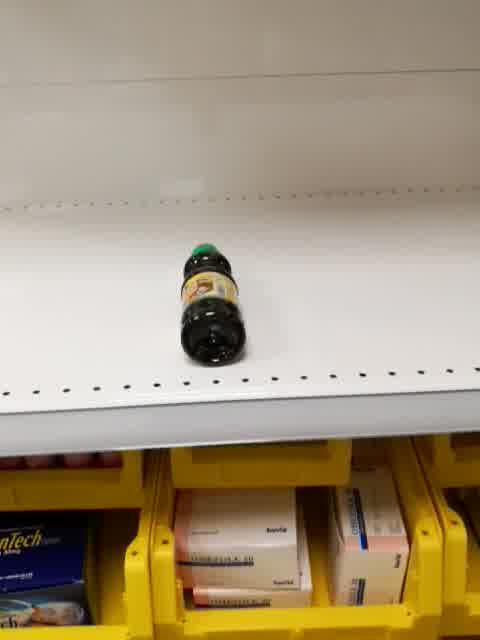cookingoil: (179, 241, 248, 369)
